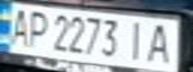2: (48, 11, 72, 53), (66, 12, 87, 55)
3: (100, 16, 124, 58)
7: (81, 15, 103, 56)
A: (142, 20, 178, 65), (3, 6, 33, 46)
I: (121, 18, 151, 61)
P: (24, 7, 51, 48)
